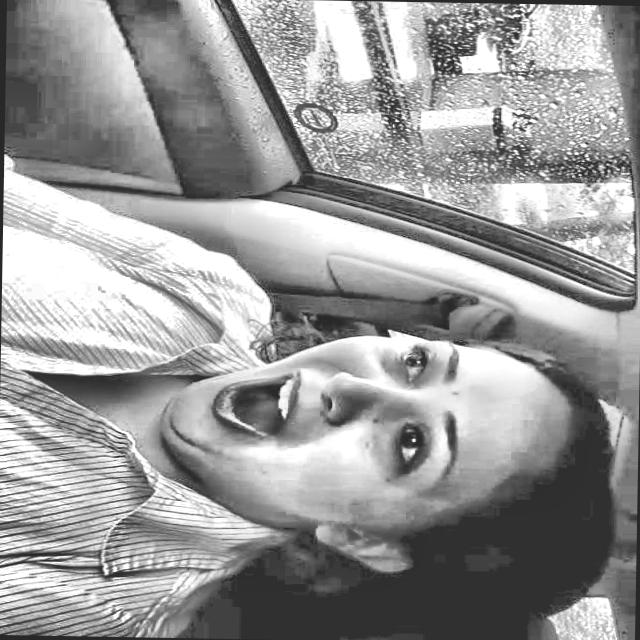open_eyes: (376, 412, 440, 481), (381, 323, 440, 391)
open_mouth: (190, 356, 307, 460)
